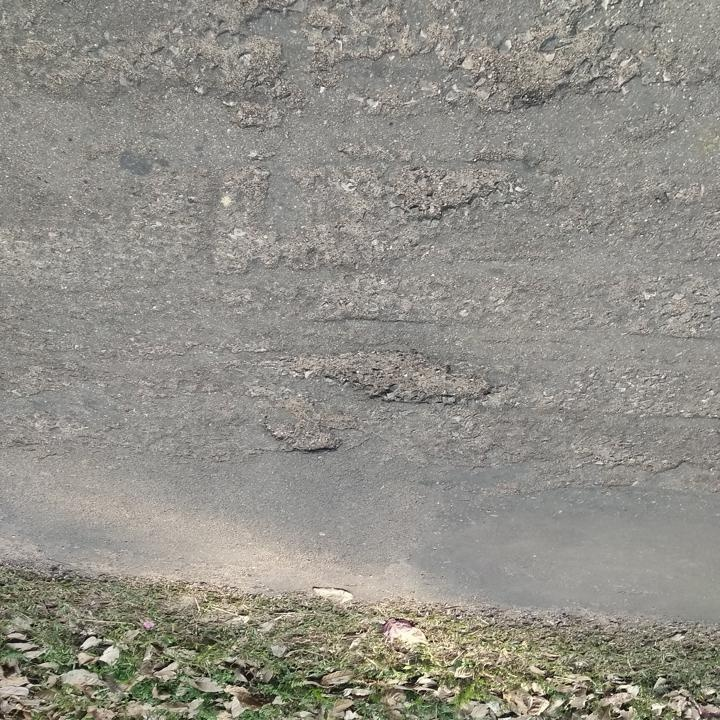pothole: (308, 350, 496, 407), (468, 28, 583, 114), (384, 165, 508, 225), (200, 36, 290, 91), (259, 413, 342, 458)
